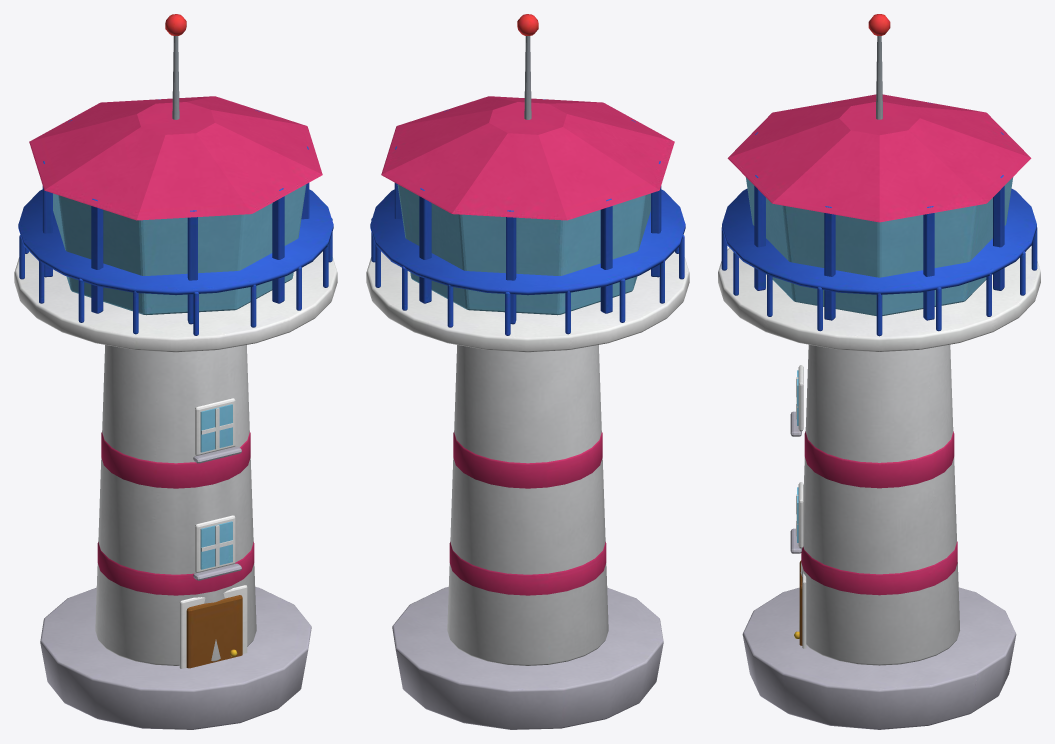
The model's file is tourdur.glb.
3 views of the same model, side by side, from view 1: azimuth 30°, elevation 25°; view 2: azimuth 150°, elevation 25°; view 3: azimuth 270°, elevation 25° (orthographic).
Visible parts, largest first — view 1: antenne__metal; view 2: antenne__metal; view 3: antenne__metal.
Boxes of the visible parts, x1=… form: antenne__metal: x1=14, y1=14, x2=337, y2=729; antenne__metal: x1=366, y1=14, x2=689, y2=729; antenne__metal: x1=718, y1=14, x2=1040, y2=729.
Bounding box in the file's own units: 4 × 9.04 × 4.
Materials: 1 (1 with a texture image).
